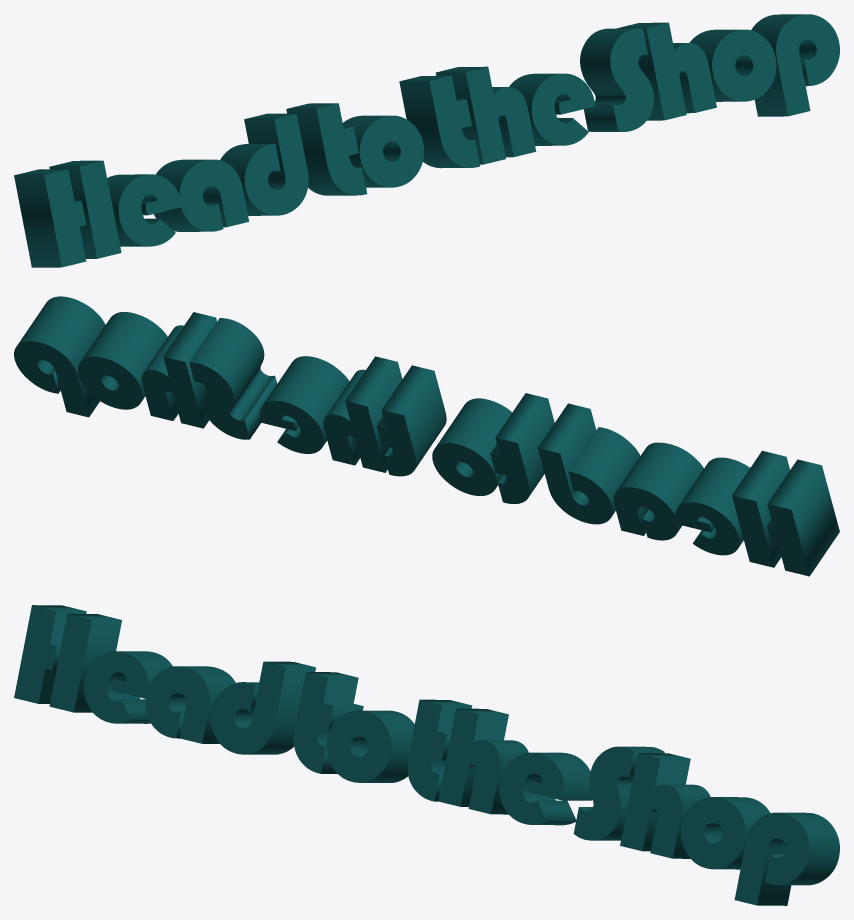
The model's file is ShopV6.glb.
3 renders of one model, top to bottom at view 1: azimuth 30°, elevation 25°; view 2: azimuth 150°, elevation 25°; view 3: azimuth 330°, elevation 25°, orthographic.
Parts seen in each view (by area): view 1: Pullectorverse; view 2: Pullectorverse; view 3: Pullectorverse.
Part boxes in pixels (x1,y1,x2,y2): Pullectorverse: (14,14,839,267); Pullectorverse: (14,296,839,576); Pullectorverse: (14,605,839,905).
Size of the model in its own units: 5.56 by 0.8468 by 0.6544.
